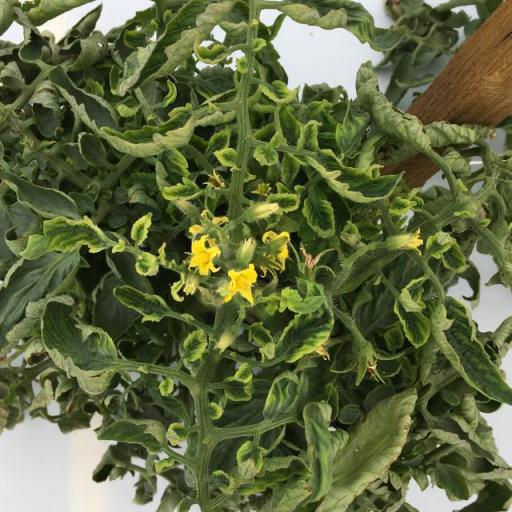disease_tomato: (38, 295, 126, 397), (304, 148, 406, 204), (98, 106, 200, 159), (264, 294, 336, 364), (16, 214, 108, 260), (392, 275, 432, 350), (97, 417, 166, 456), (259, 371, 306, 424), (113, 285, 170, 323), (301, 195, 336, 238), (236, 439, 267, 481), (160, 177, 203, 204), (246, 321, 276, 359), (260, 80, 302, 104), (193, 39, 231, 65), (442, 240, 470, 274), (182, 328, 209, 361), (296, 119, 322, 150), (224, 376, 255, 402), (426, 231, 454, 259), (130, 211, 153, 245)
